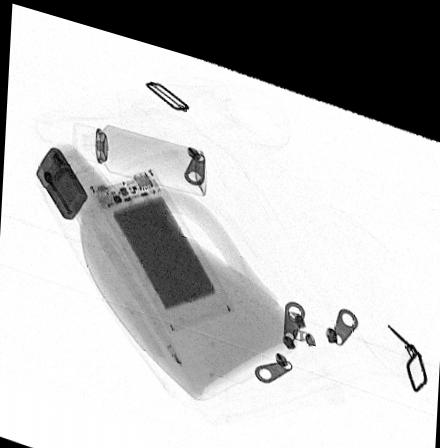Lighter: (35, 143, 86, 214)
Powerbank: (86, 157, 235, 323)
Sprayer: (71, 117, 206, 183)
